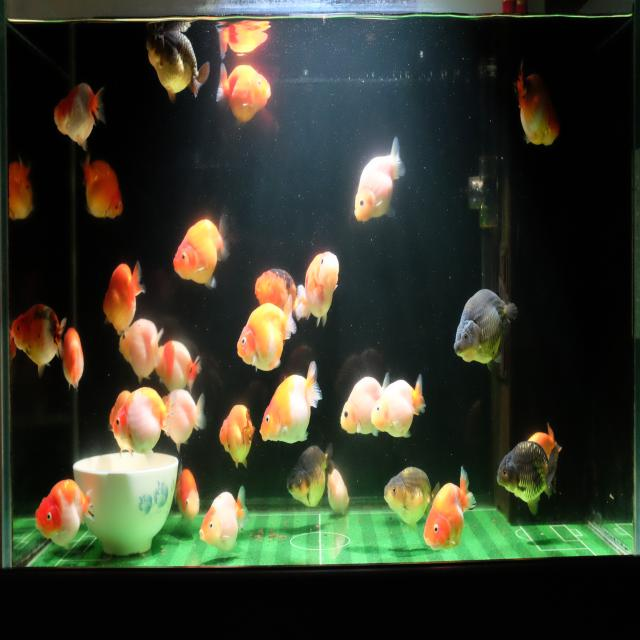Goldfish: (452, 274, 520, 375), (257, 359, 325, 444), (142, 25, 210, 107), (234, 291, 298, 374), (110, 386, 176, 466), (32, 473, 97, 553), (352, 133, 409, 224), (496, 438, 559, 518), (423, 465, 479, 554), (512, 53, 562, 150), (172, 212, 232, 290), (49, 75, 108, 151), (11, 302, 66, 380), (197, 482, 251, 558), (383, 462, 441, 532), (213, 62, 272, 128), (100, 255, 147, 337), (371, 371, 426, 440), (339, 370, 392, 438), (296, 250, 341, 328), (284, 440, 333, 510), (116, 315, 164, 386), (254, 262, 308, 324), (78, 153, 125, 220), (217, 398, 256, 475), (162, 391, 206, 457), (154, 334, 203, 390), (10, 155, 37, 228), (173, 459, 200, 531), (60, 324, 86, 394), (325, 465, 352, 519), (526, 425, 564, 460)
